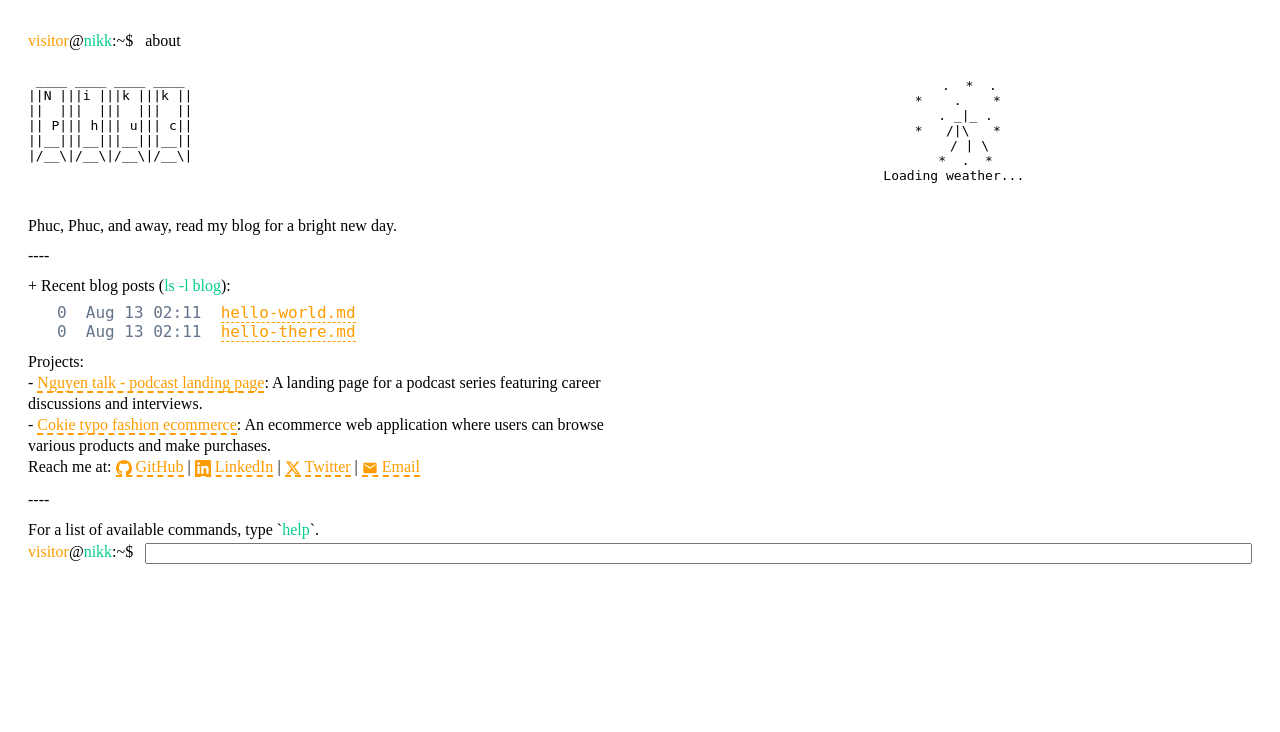
Test: Terminal component › keyboard shortcuts › clears terminal with Ctrl+L
Submit a command first
Type "help" into the field titled "terminal-input" at coordinates (699, 554), box [145,543,1252,564]
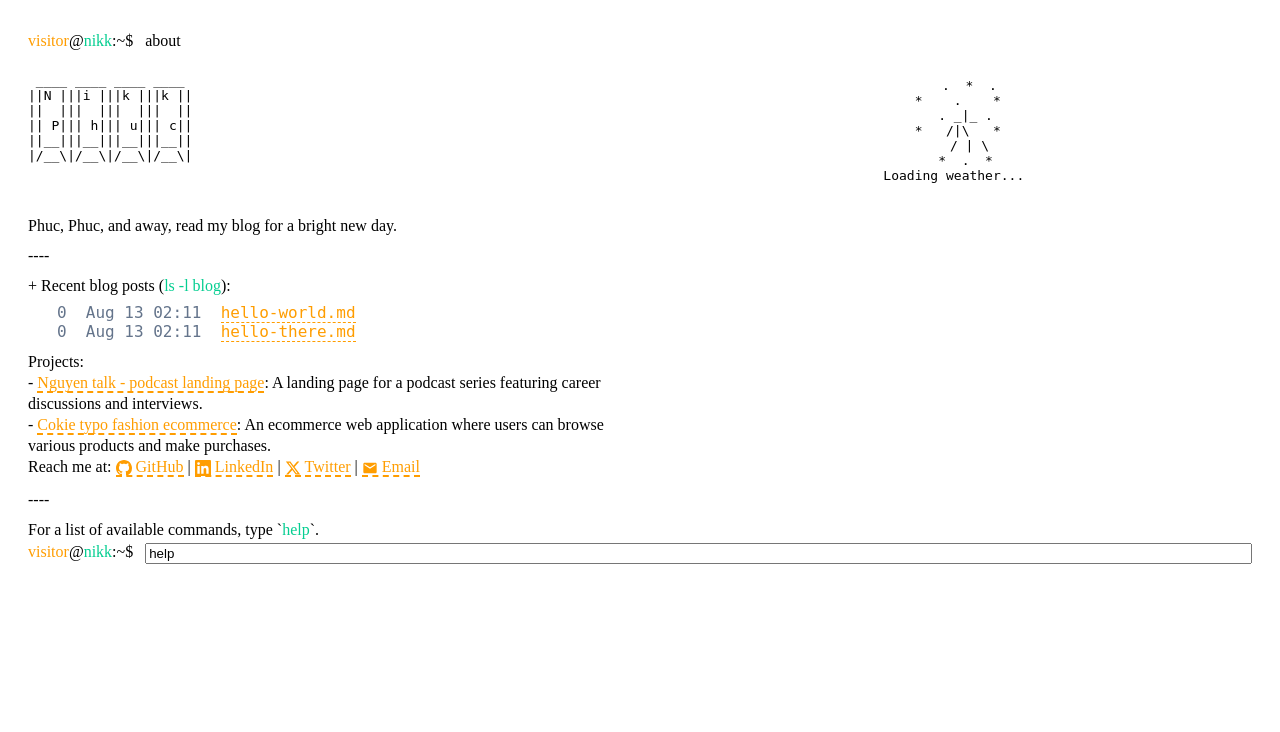
Submit the form titled "terminal-input", box [28,543,1252,564]
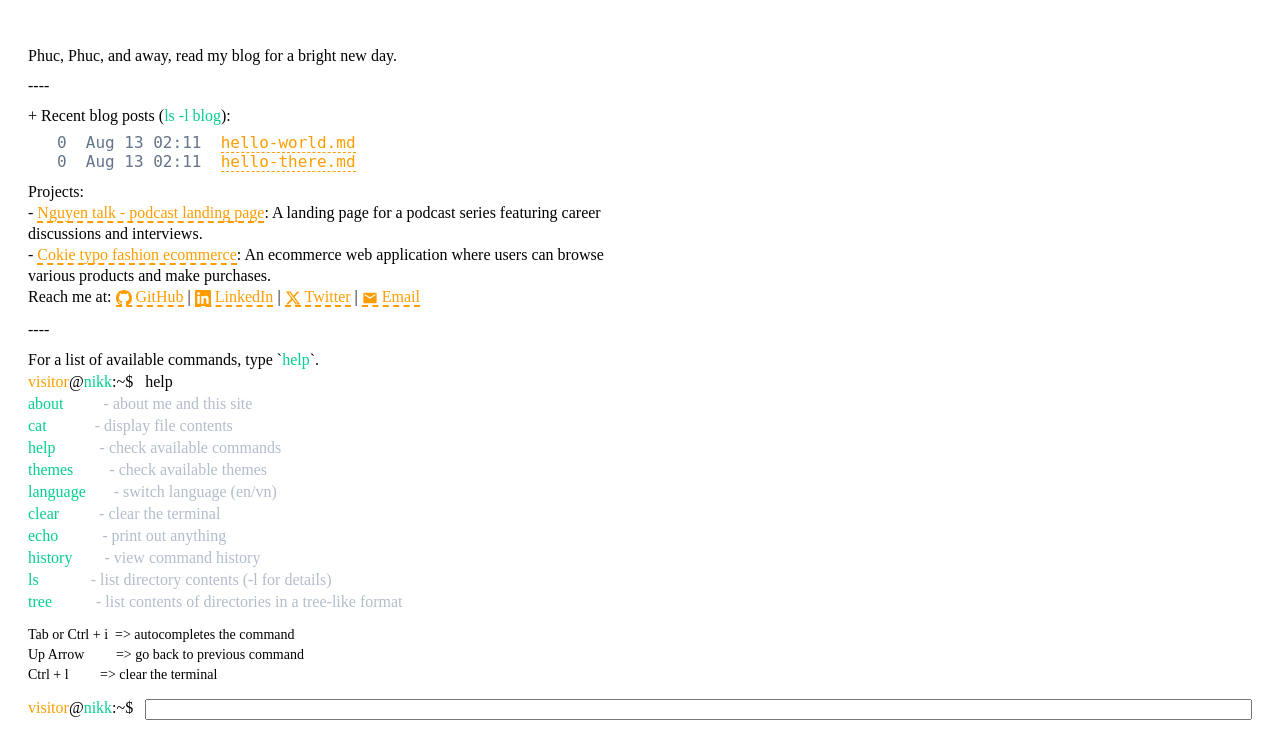
Now clear with Ctrl+L
Press l in the field titled "terminal-input", box [145,699,1252,720]
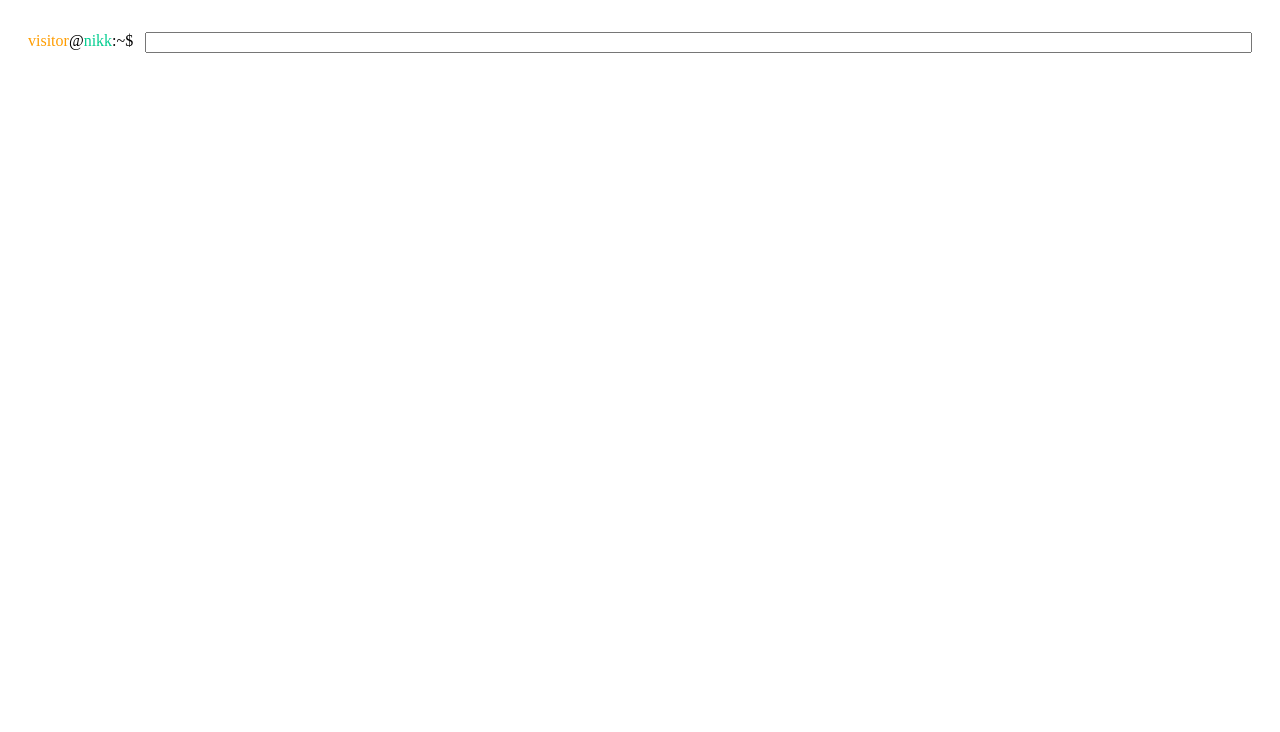
Result: the text with test id "input-command" is gone
